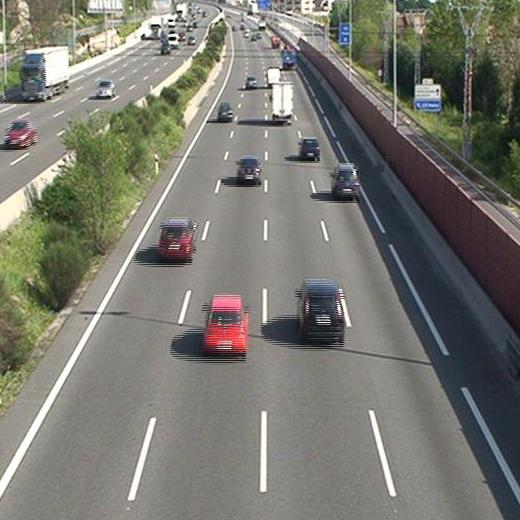car: (297, 280, 343, 341), (204, 295, 247, 355), (160, 221, 194, 258), (332, 164, 360, 198), (237, 158, 260, 184), (299, 139, 320, 160), (218, 103, 233, 121), (245, 77, 257, 90)
small-truck: (271, 82, 294, 125), (282, 46, 297, 68)
van: (266, 68, 282, 86)
